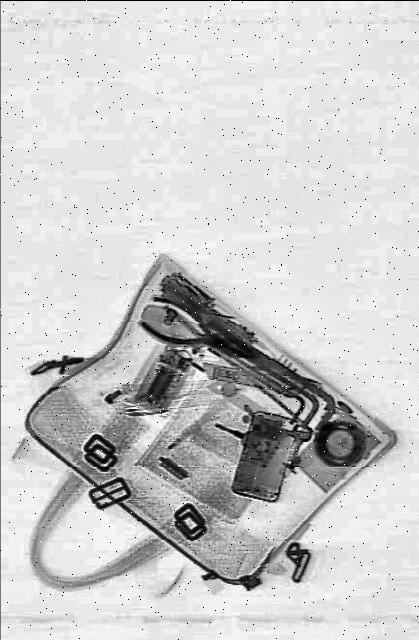Pliers: (138, 284, 239, 370)
